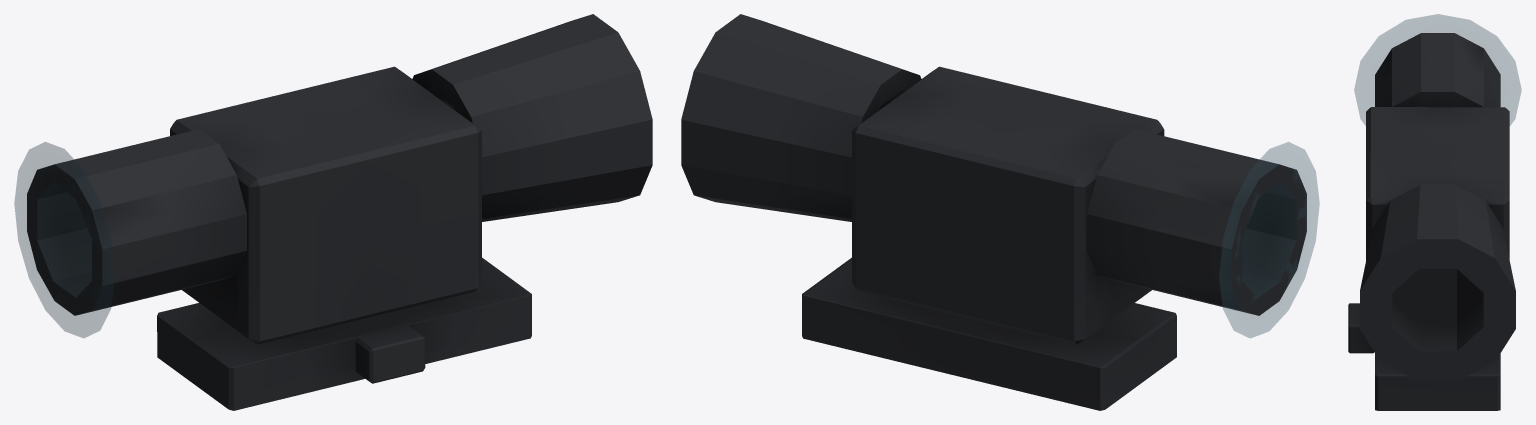
File: k-att-magnified-lacogcompacto3x.glb
3 views of the same model, side by side, from view 1: azimuth 30°, elevation 25°; view 2: azimuth 150°, elevation 25°; view 3: azimuth 270°, elevation 25° (orthographic). The views are drawn at different scales.
Parts seen in each view (by area): view 1: kit, lens; view 2: kit, lens; view 3: kit, lens.
Part boxes in pixels (x1=…): kit: x1=27, y1=14, x2=652, y2=410; lens: x1=14, y1=142, x2=114, y2=338; kit: x1=681, y1=14, x2=1306, y2=410; lens: x1=1219, y1=142, x2=1319, y2=338; kit: x1=1348, y1=33, x2=1515, y2=410; lens: x1=1354, y1=14, x2=1521, y2=125.
Bounding box in the file's own units: 0.116 × 0.0547 × 0.0387.
